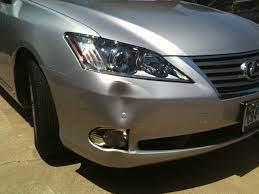front-bumper-dent: (38, 73, 241, 164)
